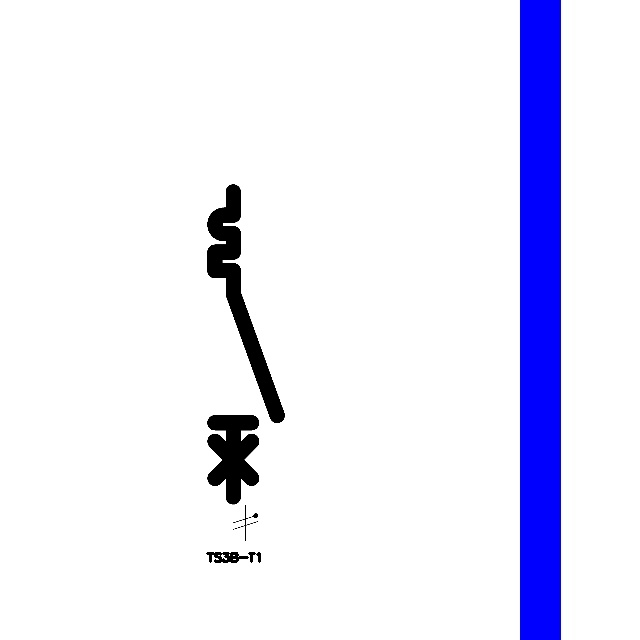interruptor_termomagnetico: (207, 184, 285, 505)
